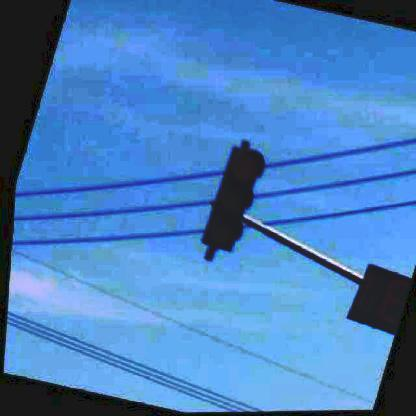Traffic Light -Red-: (196, 146, 263, 254)
